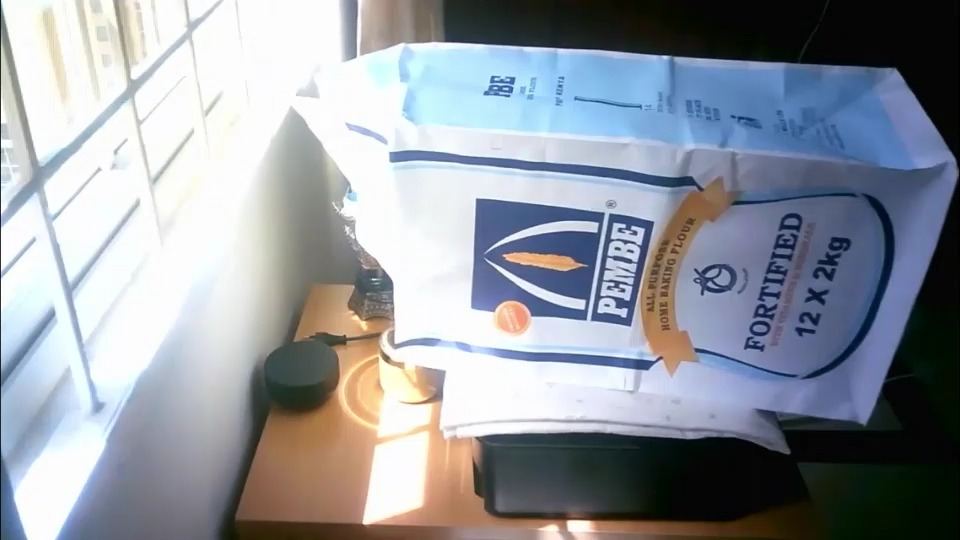wheat_flour_blue_label: (351, 42, 956, 420)
